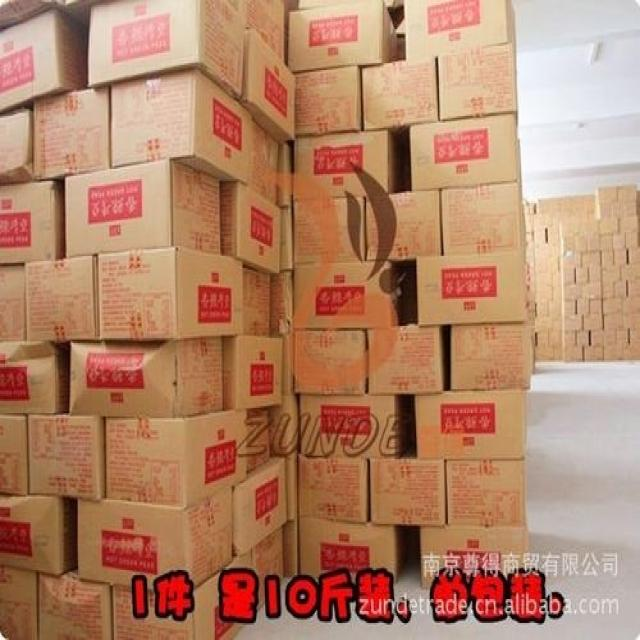box: (111, 68, 279, 205), (90, 0, 246, 104), (77, 488, 233, 591), (65, 159, 221, 259), (104, 410, 248, 509), (97, 246, 243, 341), (69, 336, 224, 418), (111, 570, 248, 640), (0, 7, 88, 113), (408, 114, 516, 191), (416, 251, 524, 326), (415, 389, 525, 461), (288, 0, 397, 72), (293, 259, 404, 329), (293, 130, 401, 201), (298, 515, 406, 585), (35, 85, 111, 183), (404, 0, 516, 61), (300, 394, 407, 457), (420, 527, 527, 589), (28, 415, 106, 500), (24, 258, 99, 345), (241, 29, 297, 143), (0, 495, 77, 577), (436, 41, 516, 119), (361, 56, 439, 133), (221, 179, 280, 278), (440, 183, 520, 256), (232, 456, 288, 560), (369, 451, 445, 527), (365, 188, 442, 261), (38, 568, 114, 640), (0, 181, 65, 265), (367, 326, 445, 394), (445, 461, 524, 527), (0, 341, 69, 415), (292, 67, 364, 137), (451, 324, 526, 391), (293, 198, 366, 265), (294, 329, 367, 394), (300, 457, 370, 524), (224, 336, 284, 411), (225, 0, 289, 68), (268, 329, 300, 457), (251, 527, 284, 614), (0, 567, 37, 640), (0, 111, 35, 184), (0, 415, 29, 493), (0, 265, 27, 345), (243, 268, 273, 336), (271, 271, 294, 336), (248, 408, 269, 473), (284, 447, 300, 522), (278, 138, 294, 205), (283, 514, 300, 577), (280, 205, 294, 273)
